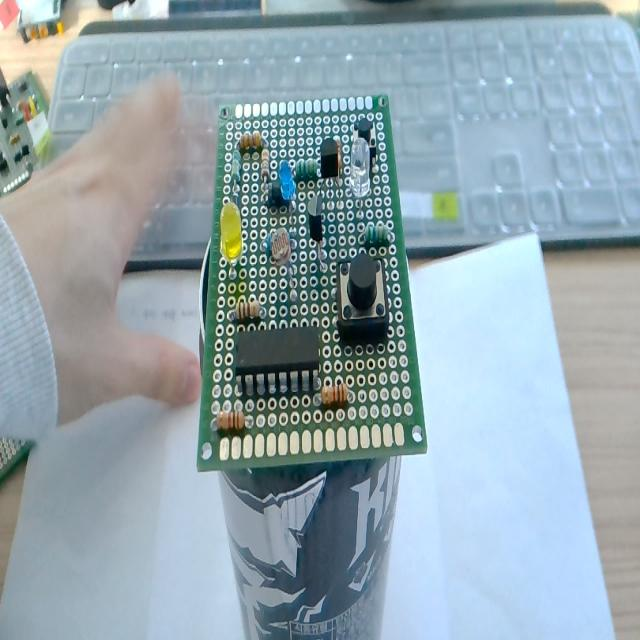IC: (236, 325, 320, 395)
cds: (262, 228, 300, 302)
led: (220, 200, 244, 279), (266, 160, 296, 212), (350, 135, 370, 198)
resistor: (321, 380, 349, 408), (217, 407, 246, 432), (237, 299, 261, 322), (296, 157, 318, 182), (365, 223, 388, 246), (240, 132, 264, 152), (230, 154, 241, 191), (260, 148, 270, 182)
switch: (336, 252, 387, 341)
transistor: (308, 196, 326, 270), (320, 138, 340, 179)
